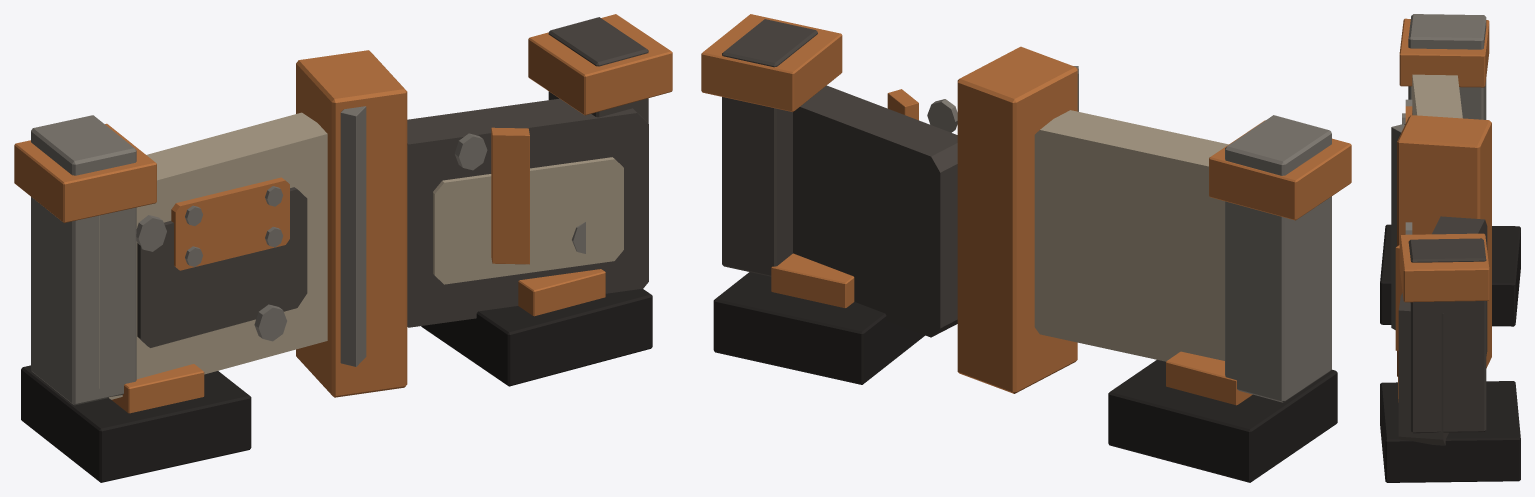
File: barricade__damaged.glb
3 renders of one model, left to right at view 1: azimuth 30°, elevation 25°; view 2: azimuth 150°, elevation 25°; view 3: azimuth 270°, elevation 25°, orthographic. The views are drawn at different scales.
Parts seen in each view (by area): view 1: ROLE_accent, ROLE_primary, ROLE_secondary, ROLE_bareMetal, ROLE_rubber; view 2: ROLE_accent, ROLE_primary, ROLE_secondary, ROLE_rubber, ROLE_bareMetal; view 3: ROLE_accent, ROLE_primary, ROLE_rubber, ROLE_bareMetal, ROLE_secondary.
Part boxes in pixels (x1,y1,x2,y2): ROLE_accent: (14,14,672,413); ROLE_primary: (137,17,648,347); ROLE_secondary: (99,112,623,399); ROLE_bareMetal: (31,106,585,405); ROLE_rubber: (21,288,652,482); ROLE_accent: (701,14,1351,405); ROLE_primary: (722,19,957,337); ROLE_secondary: (1034,110,1228,361); ROLE_rubber: (713,272,1337,482); ROLE_bareMetal: (927,66,1331,402); ROLE_accent: (1395,18,1491,402); ROLE_primary: (1398,110,1487,445); ROLE_rubber: (1380,224,1520,482); ROLE_bareMetal: (1391,14,1486,329); ROLE_secondary: (1411,74,1462,118).
Size of the model in its own units: 8 by 3.91 by 2.
